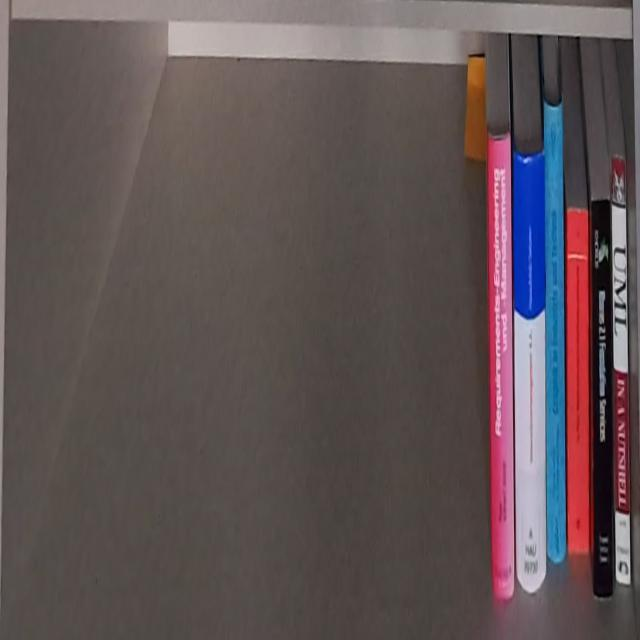Book Spine: (511, 143, 548, 602), (487, 131, 515, 598), (542, 97, 568, 570), (561, 200, 592, 558), (609, 151, 631, 585), (592, 201, 614, 603)
